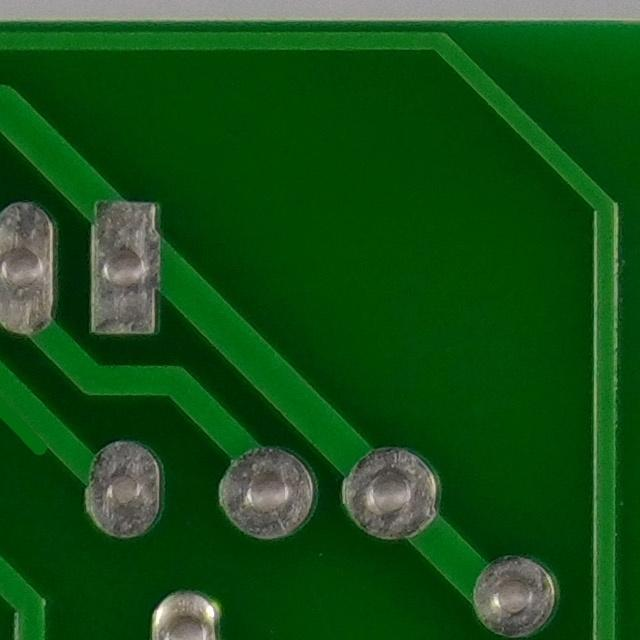spur: (0, 375, 68, 467)
